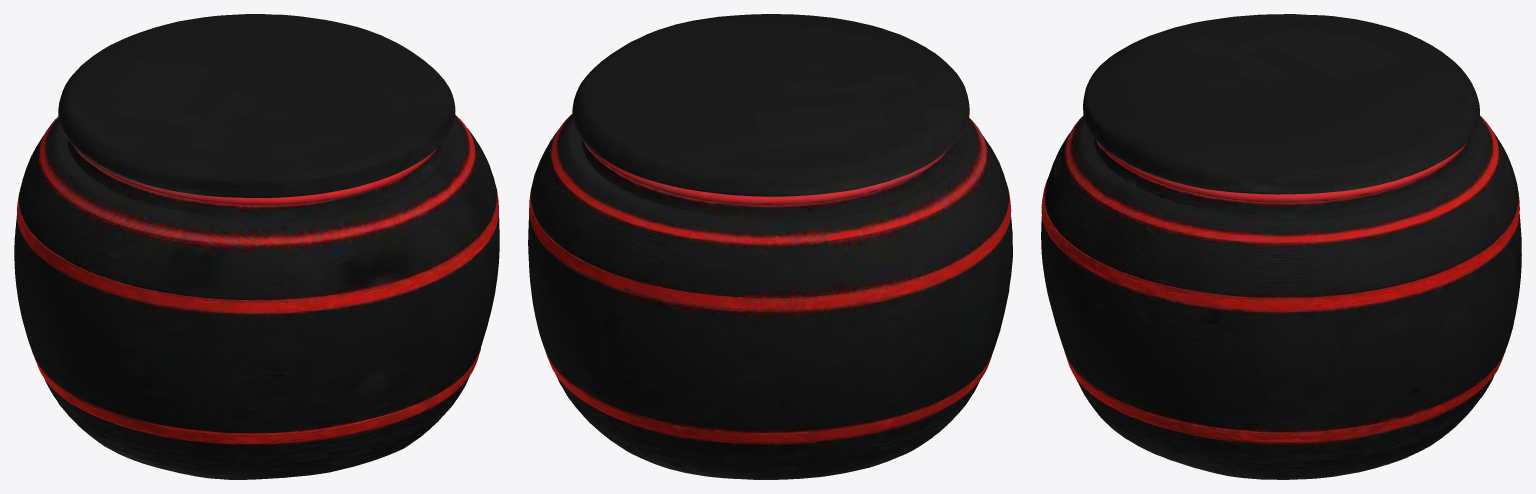
File: lacquer-vessel.glb
3 renders of one model, left to right at view 1: azimuth 30°, elevation 25°; view 2: azimuth 150°, elevation 25°; view 3: azimuth 270°, elevation 25°, orthographic.
Parts seen in each view (by area): view 1: model; view 2: model; view 3: model.
Part boxes in pixels (x1,y1,x2,y2): model: (14, 14, 499, 479); model: (528, 14, 1012, 479); model: (1041, 14, 1521, 479).
Bounding box in the file's own units: 0.4 × 0.291 × 0.3965.
Materials: 1 (1 with a texture image).
